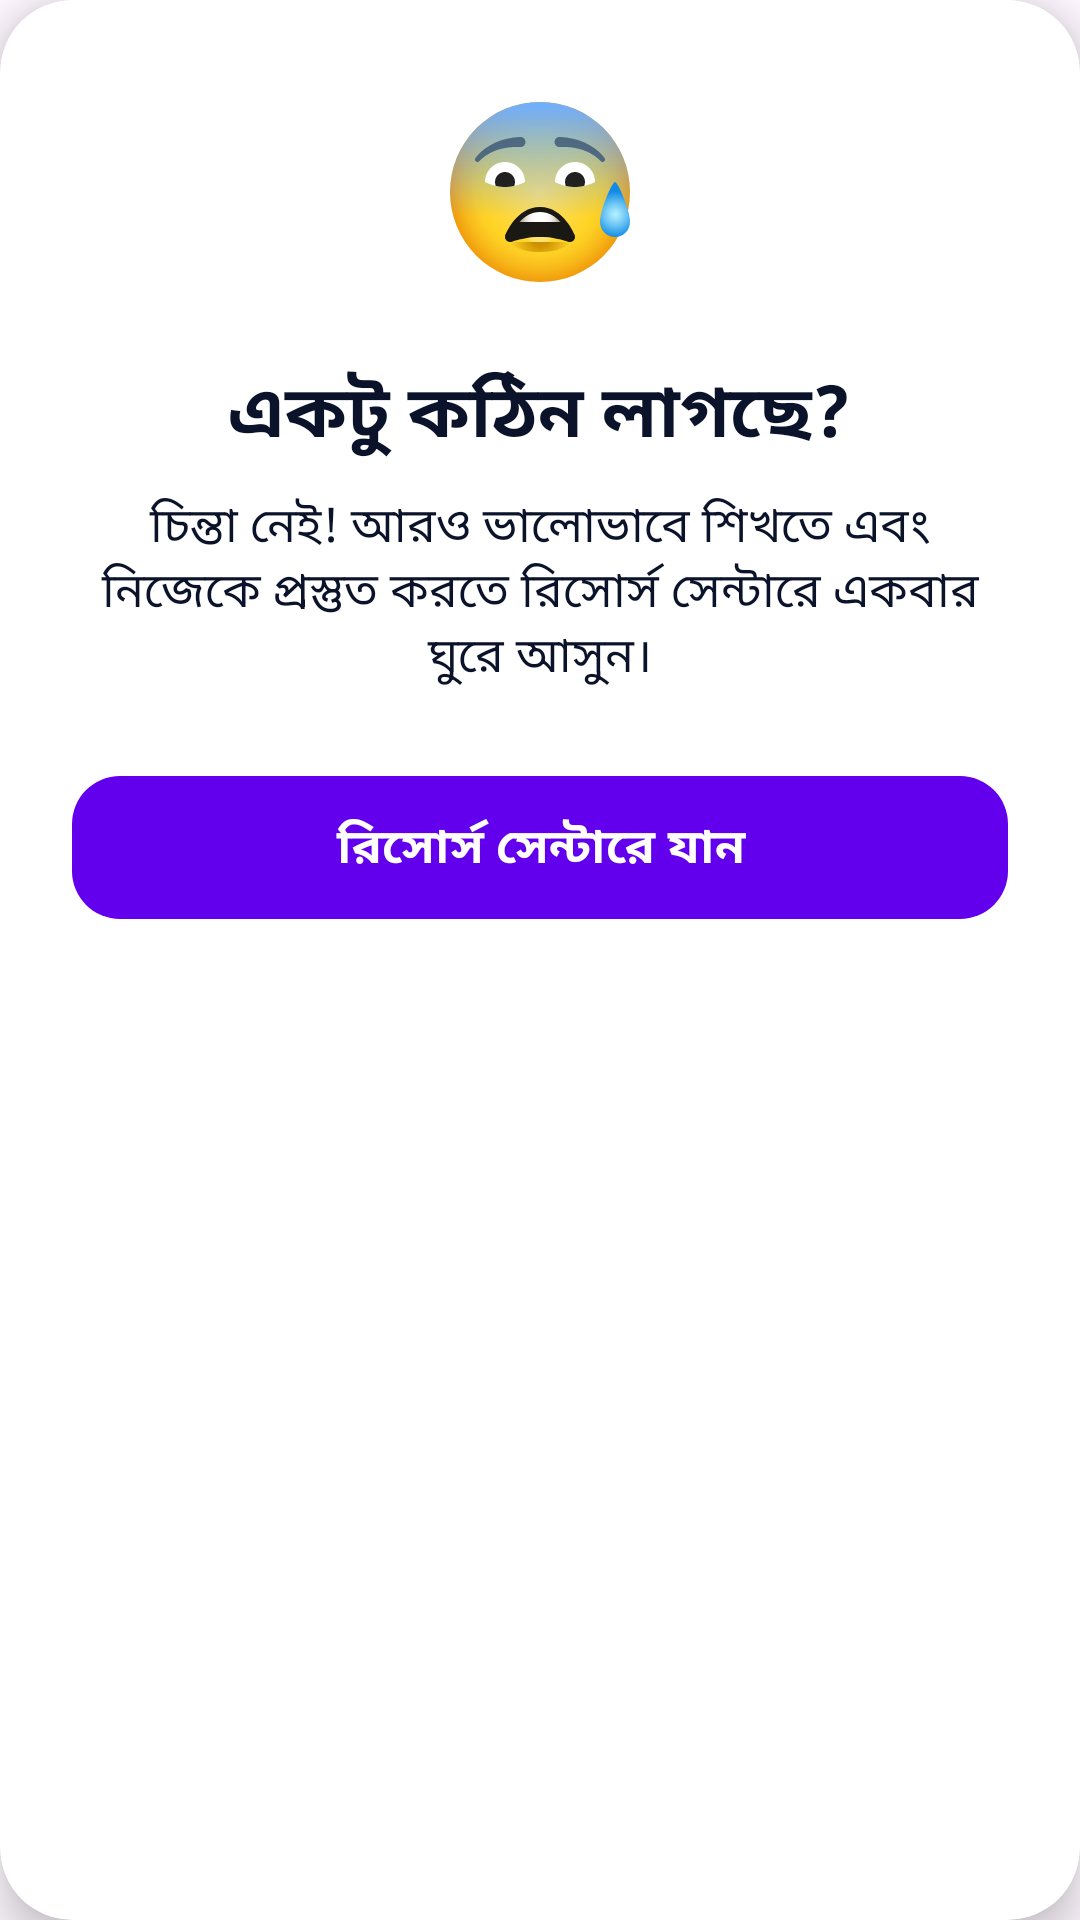

Icon bounding boxes for this 1080w x 1920h phone screenshot, format [x1,y1,x2,y2]:
failed: [450,102,630,282]
